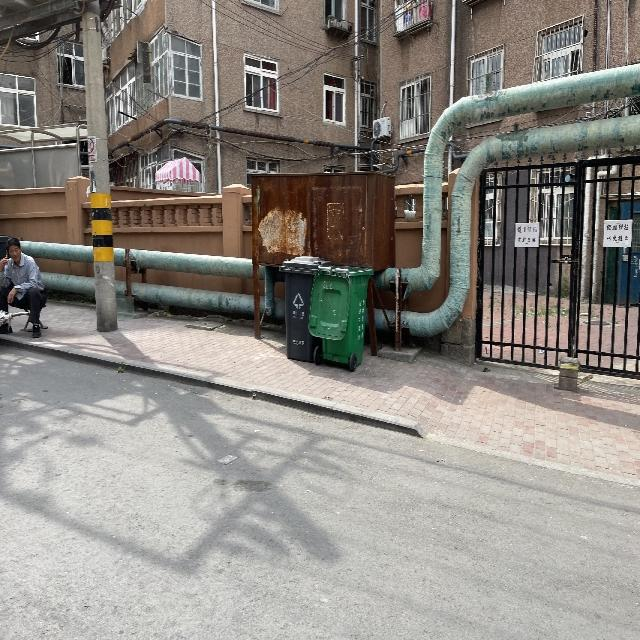garbage_bin: (308, 266, 372, 367), (278, 254, 330, 360)
